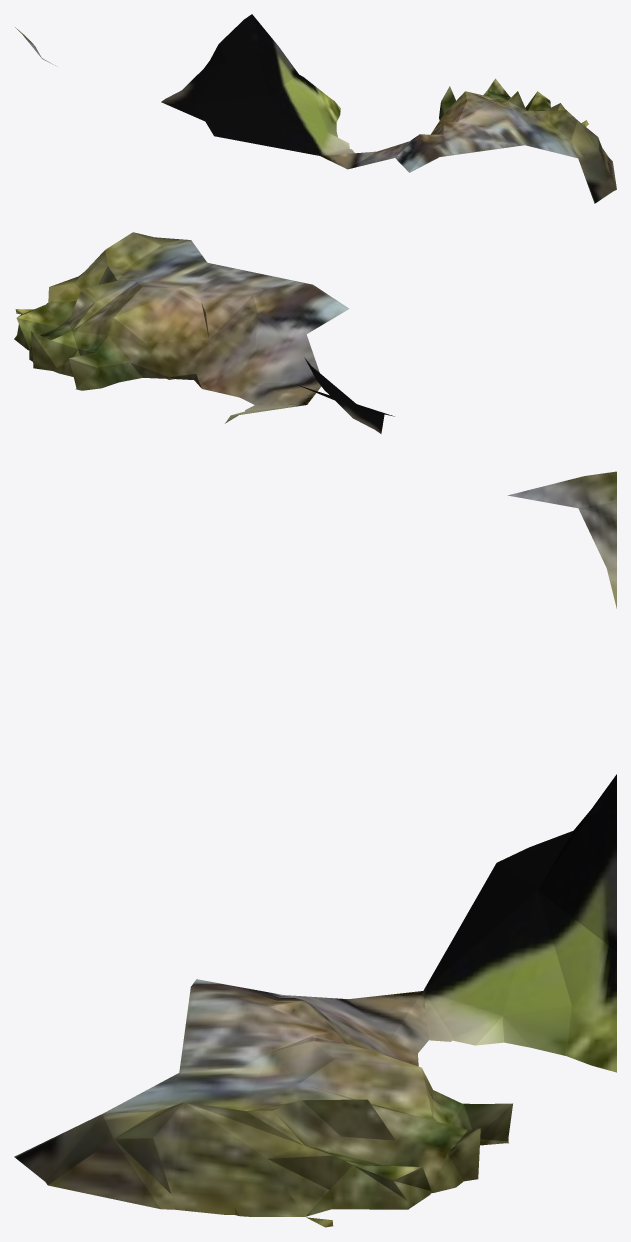
The picture shows the model from 3 angles, top to bottom: view 1: azimuth 30°, elevation 25°; view 2: azimuth 150°, elevation 25°; view 3: azimuth 270°, elevation 25°; orthographic projection. The views are drawn at different scales.
Bounding box in the file's own units: 9.69 × 3.02 × 5.45.
1 material, 1 textured.
